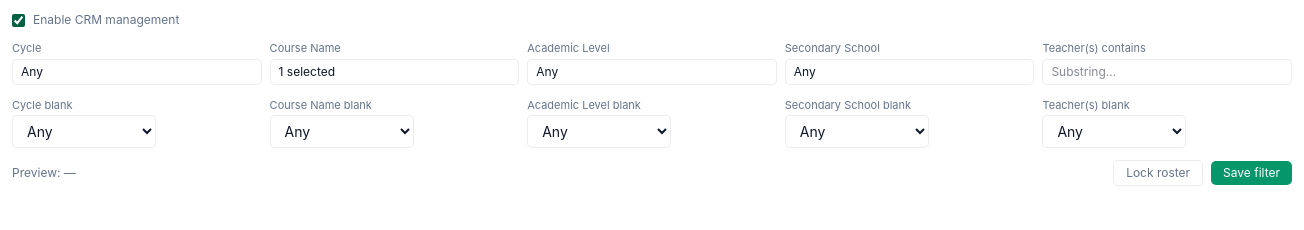
CrmFilterPanel reconcile status › deduplicates selected course names in the displayed count and state updates
Step 1. Click the button "1 selected" → click(394, 72), box [270, 58, 519, 84]
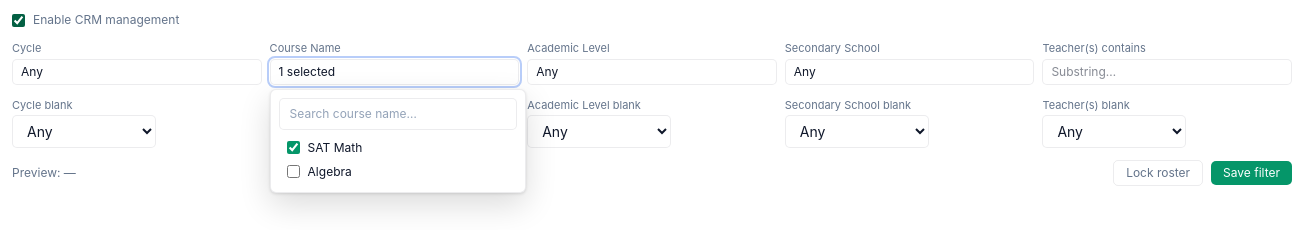
Check: the text "SAT Math" is shown once, box [287, 140, 362, 154]
Step 2. Click the checkbox labelled "Algebra" → click(293, 172), box [287, 165, 300, 178]
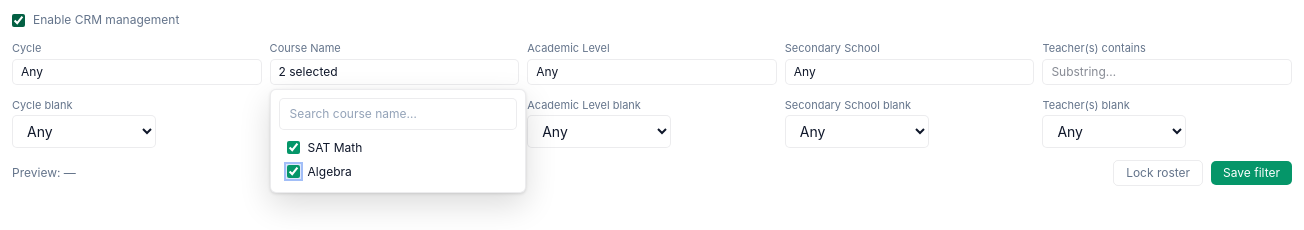
Check: the button "2 selected" is shown, box [270, 58, 519, 84]
